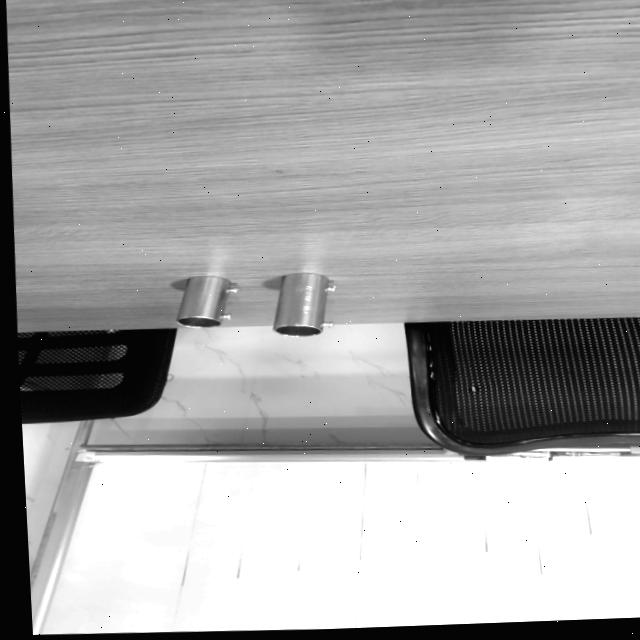Co_Lon: (271, 268, 342, 344)
Co_Nho: (174, 268, 239, 337)
